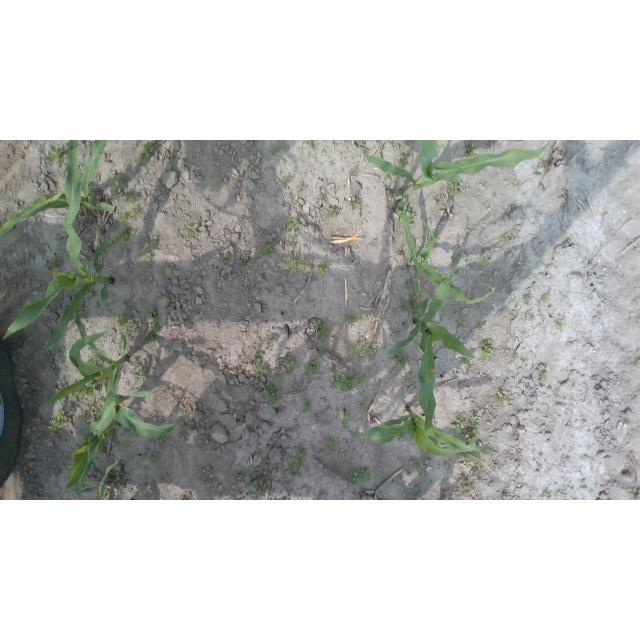Maize: (0, 141, 114, 356), (42, 309, 186, 437), (388, 268, 485, 453), (59, 390, 158, 500), (362, 141, 553, 198), (396, 207, 492, 306), (338, 401, 498, 456), (0, 189, 116, 238), (53, 141, 107, 204), (98, 460, 117, 500)
Weeds: (330, 369, 368, 392), (284, 447, 312, 473), (116, 308, 136, 341), (70, 382, 99, 403), (396, 205, 416, 229), (348, 466, 373, 484), (109, 173, 128, 195), (49, 409, 68, 431), (49, 144, 68, 164), (264, 382, 281, 404), (304, 356, 321, 377), (248, 475, 267, 493), (118, 208, 138, 224), (139, 142, 156, 160), (280, 358, 300, 373), (315, 320, 329, 341), (399, 300, 421, 313), (452, 414, 465, 436), (144, 327, 160, 343), (479, 339, 493, 357), (465, 140, 480, 156), (352, 337, 366, 354), (148, 308, 160, 327), (463, 429, 477, 445), (119, 227, 135, 241), (343, 314, 359, 327), (316, 260, 329, 276), (392, 356, 408, 369), (276, 256, 291, 269), (86, 354, 102, 366), (256, 368, 268, 384), (285, 220, 299, 233), (626, 488, 640, 501), (249, 352, 263, 364), (303, 396, 313, 412), (52, 257, 64, 270), (328, 207, 341, 219), (124, 192, 136, 205), (186, 224, 198, 237), (239, 254, 251, 267), (349, 197, 360, 211), (87, 402, 101, 413), (465, 450, 480, 460), (260, 243, 272, 255), (409, 460, 421, 472), (468, 416, 480, 428), (268, 336, 280, 348), (449, 181, 459, 195), (503, 234, 515, 245), (457, 480, 467, 493), (460, 355, 473, 365), (56, 234, 65, 248), (367, 343, 376, 357), (298, 259, 312, 268), (556, 321, 567, 332), (136, 366, 147, 377), (497, 392, 506, 405), (271, 144, 284, 153), (358, 400, 369, 410), (326, 436, 337, 446), (408, 486, 419, 496), (147, 235, 157, 246), (524, 292, 533, 304), (221, 252, 229, 265), (481, 256, 491, 266), (541, 293, 551, 303), (457, 320, 468, 329), (398, 156, 408, 165), (525, 315, 535, 324), (275, 370, 284, 380), (286, 238, 297, 246), (218, 366, 229, 374), (281, 175, 291, 183), (533, 167, 541, 177), (408, 289, 416, 299), (403, 281, 414, 288), (473, 464, 480, 475), (402, 377, 413, 384), (393, 188, 402, 196), (436, 196, 445, 204), (144, 252, 153, 260), (476, 323, 484, 331), (539, 374, 548, 381), (149, 452, 156, 461), (402, 197, 409, 205), (384, 173, 392, 180), (512, 180, 520, 187), (455, 256, 462, 264), (344, 414, 352, 421), (42, 156, 49, 164), (204, 465, 213, 471), (159, 268, 165, 277), (99, 397, 106, 404), (296, 183, 304, 189), (289, 268, 295, 276), (168, 293, 176, 299), (292, 249, 296, 260), (540, 492, 547, 498), (435, 237, 441, 244), (633, 299, 640, 305), (500, 496, 508, 501), (635, 359, 640, 367), (305, 140, 314, 144), (55, 389, 61, 394), (281, 388, 288, 392), (60, 464, 65, 469), (252, 344, 257, 348), (480, 457, 485, 461), (81, 411, 86, 415), (328, 160, 333, 164), (285, 351, 288, 354)
